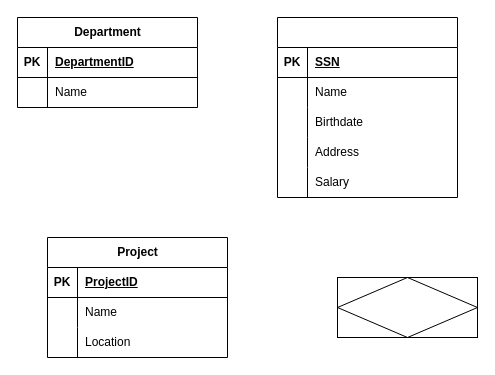
This 495x375 diagram has some shape labels left out. Here are the shapes that lost their labels. From the top down, the box of each, then its label:
(276, 16, 458, 198): Employee
(336, 276, 478, 338): House Worked
